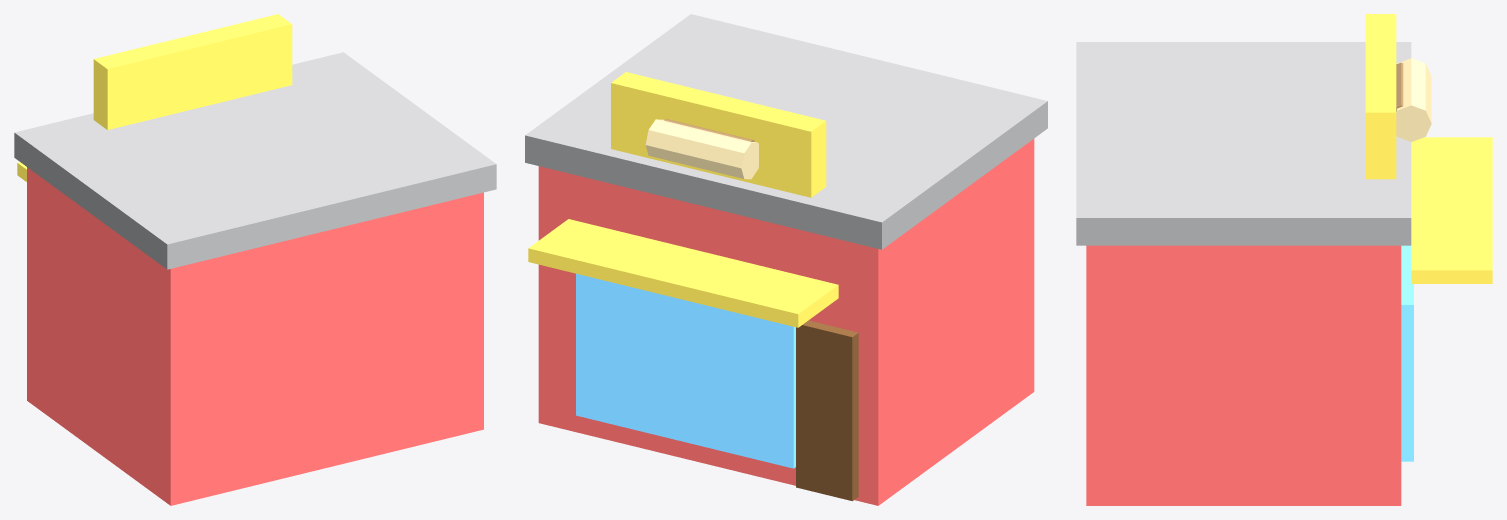
Rendered from hotdog.glb.
3 renders of one model, left to right at view 1: azimuth 30°, elevation 25°; view 2: azimuth 150°, elevation 25°; view 3: azimuth 270°, elevation 25°, orthographic. The views are drawn at different scales.
Parts seen in each view (by area): view 1: hotdog; view 2: hotdog; view 3: hotdog.
Boxes of the visible parts, x1,y1,x2,y2 form: hotdog: (14, 14, 496, 505); hotdog: (525, 14, 1047, 505); hotdog: (1076, 14, 1492, 505).
Size of the model in its own units: 0.82 by 0.78 by 0.82.
